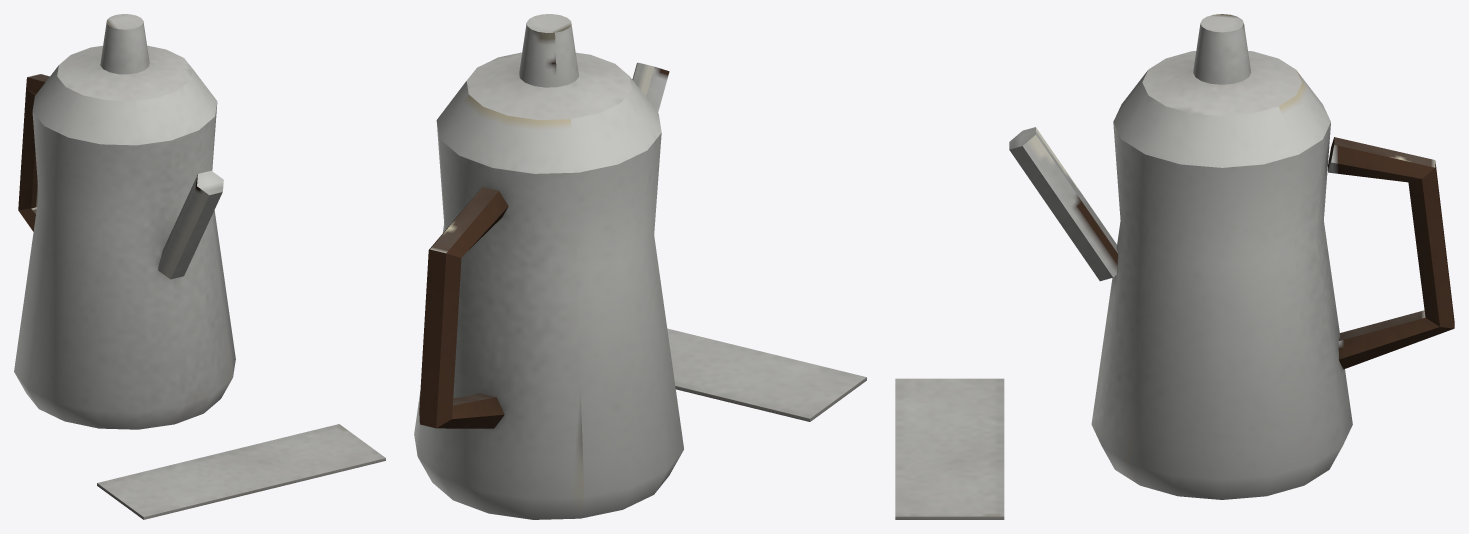
The model's file is H_CoffeeMachine.fbx.
The picture shows the model from 3 angles, left to right: view 1: azimuth 30°, elevation 25°; view 2: azimuth 150°, elevation 25°; view 3: azimuth 270°, elevation 25°; orthographic projection. The views are drawn at different scales.
Parts seen in each view (by area): view 1: H_CoffeeMachine; view 2: H_CoffeeMachine; view 3: H_CoffeeMachine.
Part boxes in pixels (x1,y1,x2,y2): H_CoffeeMachine: [14, 14, 385, 519]; H_CoffeeMachine: [414, 14, 866, 519]; H_CoffeeMachine: [895, 14, 1454, 519].
Bounding box in the file's own units: 90 × 130 × 154.
1 material, 1 textured.
